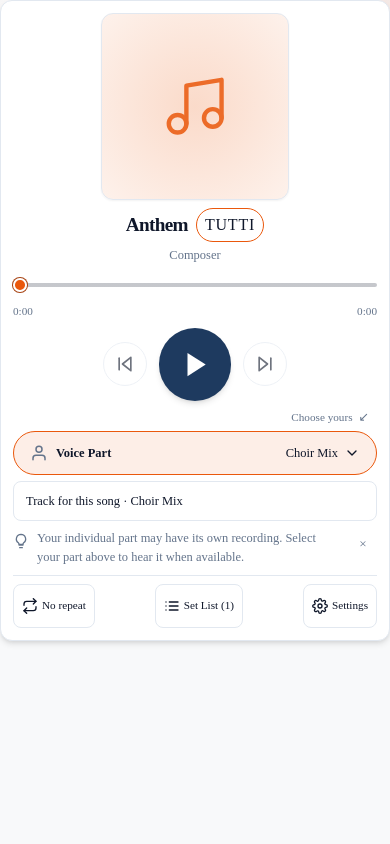
Test case: PublicPracticePlayer voice-part nudge › dismisses on explicit selection of the displayed default and persists the choice
The width and height of the screenshot is (390, 844).
Expected: the text "Your individual part may have its own recording. Select your part above to hear it when available." is shown, 37,531 -> 316,564
# Choosing the already-displayed Tutti default still counts as engagement.
Select "Choir Mix" in the dropdown labelled "Voice Part Choir Mix" at x=84, y=453, box 13,431 -> 377,475
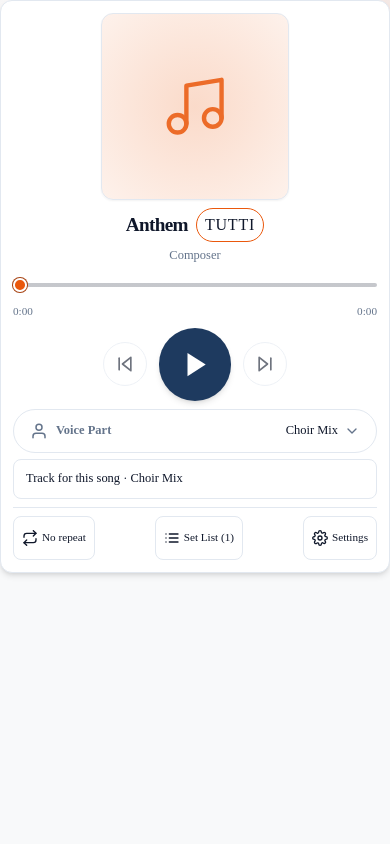
Now the text "Your individual part may have its own recording. Select your part above to hear it when available." is gone
